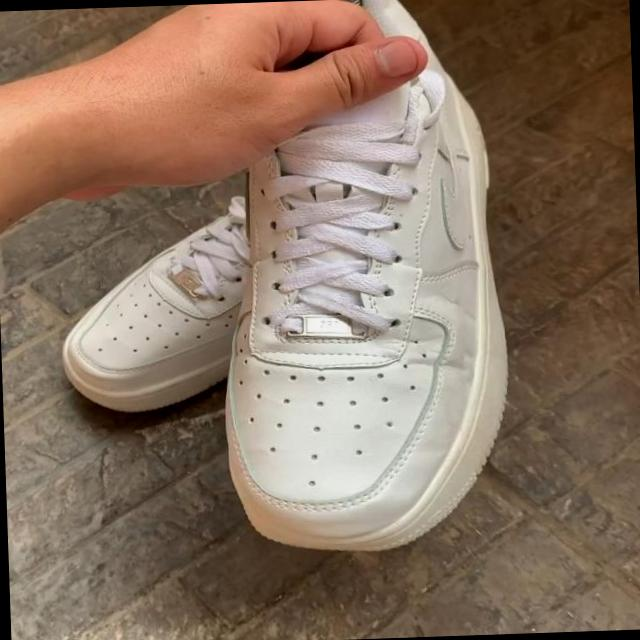nike_fake_airforce: (212, 0, 518, 558), (43, 200, 314, 422)
